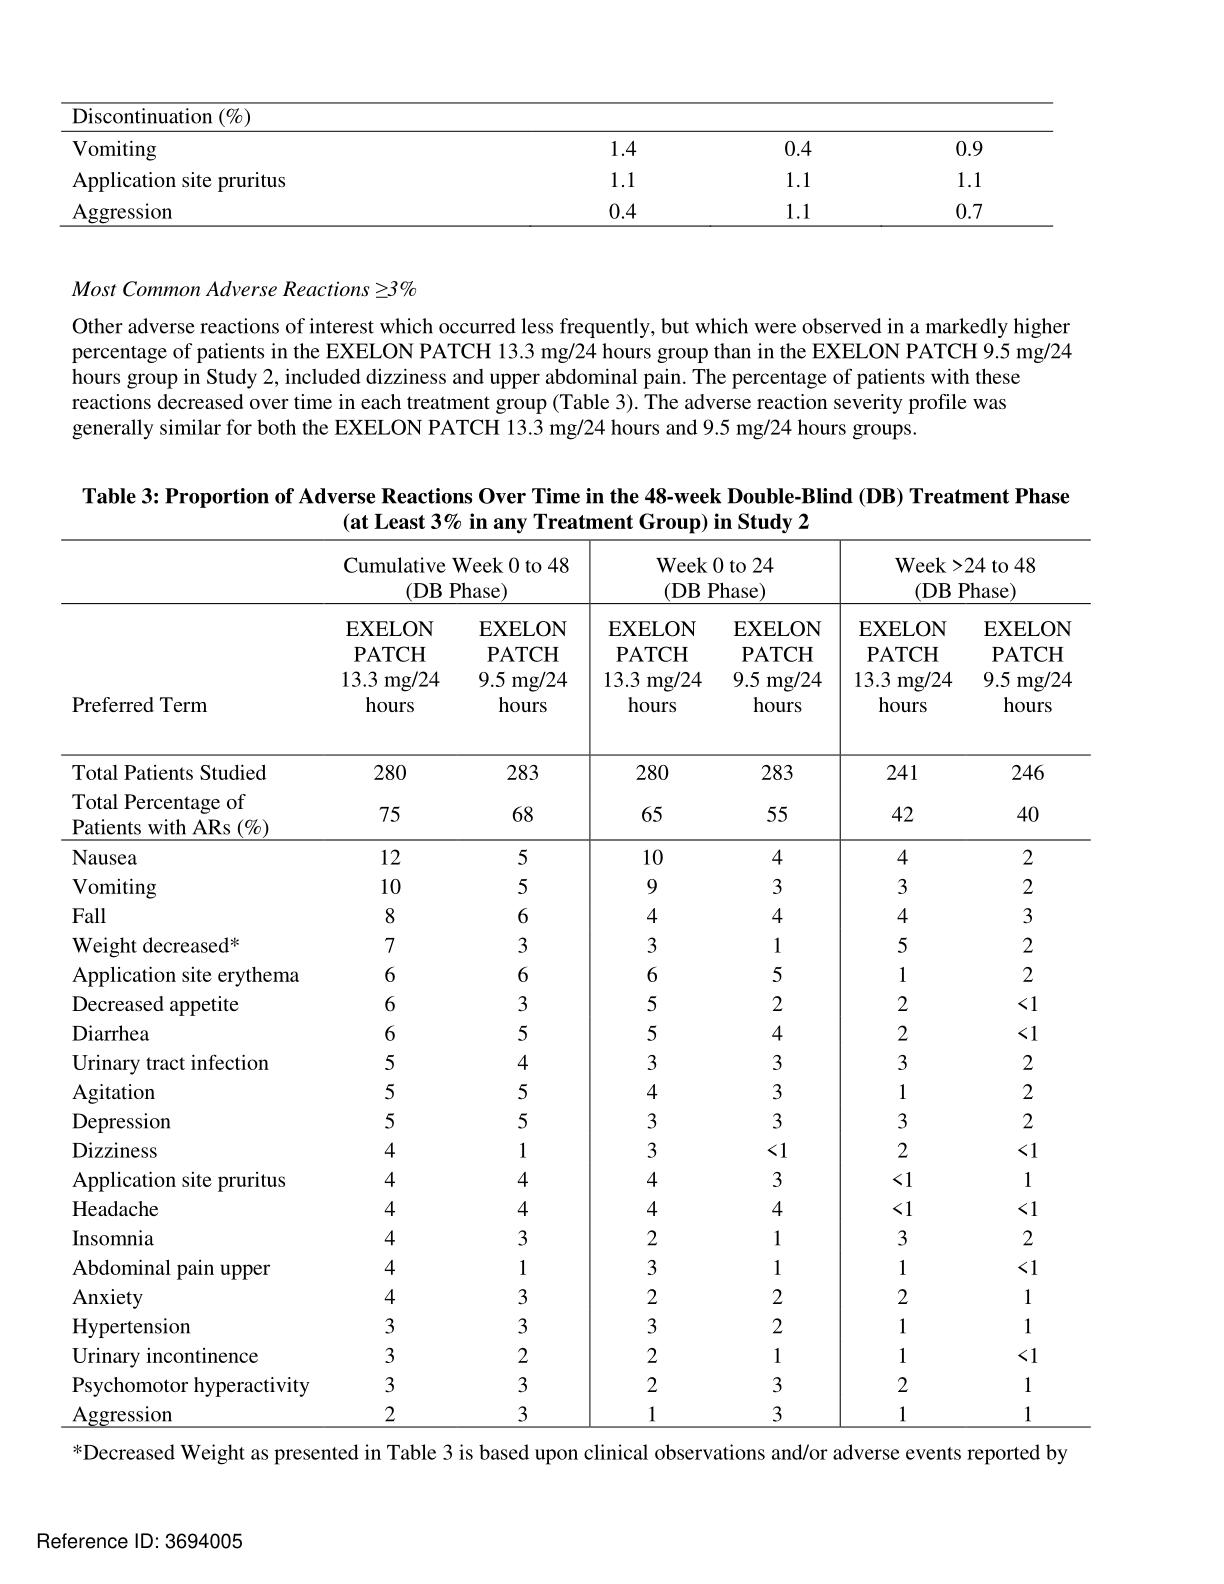partial_lined: (59, 537, 1092, 1428), (60, 100, 1056, 228)
